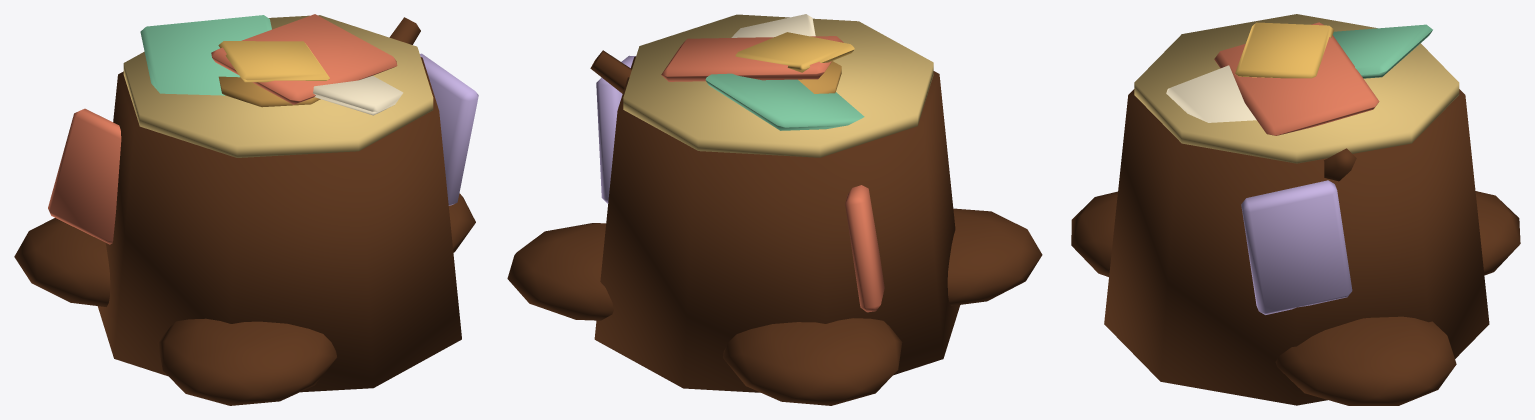
File: lstump.glb
The picture shows the model from 3 angles, left to right: view 1: azimuth 30°, elevation 25°; view 2: azimuth 150°, elevation 25°; view 3: azimuth 270°, elevation 25°; orthographic projection.
Visible parts, largest first — view 1: stump_body.001, stump_top.001, stump_root2.001, scrap_hang1, scrap1, stump_root1.001, scrap0, scrap_hang0, scrap3, scrap2, stump_heart.001, stump_root0.001 (+1 smaller); view 2: stump_body.001, stump_top.001, stump_root1.001, stump_root0.001, stump_root2.001, scrap1, scrap0, scrap_hang1, scrap3, scrap_hang0, scrap2, stump_twig (+1 smaller); view 3: stump_body.001, stump_top.001, stump_root0.001, scrap_hang0, scrap0, scrap3, scrap1, scrap2, stump_root2.001, stump_root1.001, stump_twig.
Part boxes in pixels (x1,y1,x2,y2): stump_body.001: (97,57,461,392); stump_top.001: (123,15,433,157); stump_root2.001: (157,318,336,405); scrap_hang1: (48,108,121,244); scrap1: (140,15,271,95); stump_root1.001: (14,218,110,306); scrap0: (211,14,397,104); scrap_hang0: (420,53,478,205); scrap3: (218,41,329,82); scrap2: (313,75,403,115); stump_heart.001: (218,76,320,107); stump_root0.001: (448,193,475,252); stump_body.001: (594,56,960,392); stump_top.001: (623,14,933,157); stump_root1.001: (723,318,902,405); stump_root0.001: (507,223,613,320); stump_root2.001: (947,208,1042,305); scrap1: (705,73,864,130); scrap0: (661,36,843,81); scrap_hang1: (845,185,884,312); scrap3: (735,32,854,72); scrap_hang0: (596,55,635,203); scrap2: (731,14,815,37); stump_twig: (590,50,631,93); stump_body.001: (1104,89,1489,405); stump_top.001: (1134,14,1459,163); stump_root0.001: (1275,316,1456,405); scrap_hang0: (1241,180,1352,314); scrap0: (1214,22,1379,135); scrap3: (1235,22,1334,78); scrap1: (1332,24,1432,78); scrap2: (1166,65,1256,122); stump_root2.001: (1071,191,1117,276); stump_root1.001: (1475,191,1520,275); stump_twig: (1324,148,1356,181).
Size of the model in its own units: 0.7866 by 0.5117 by 0.7459.
